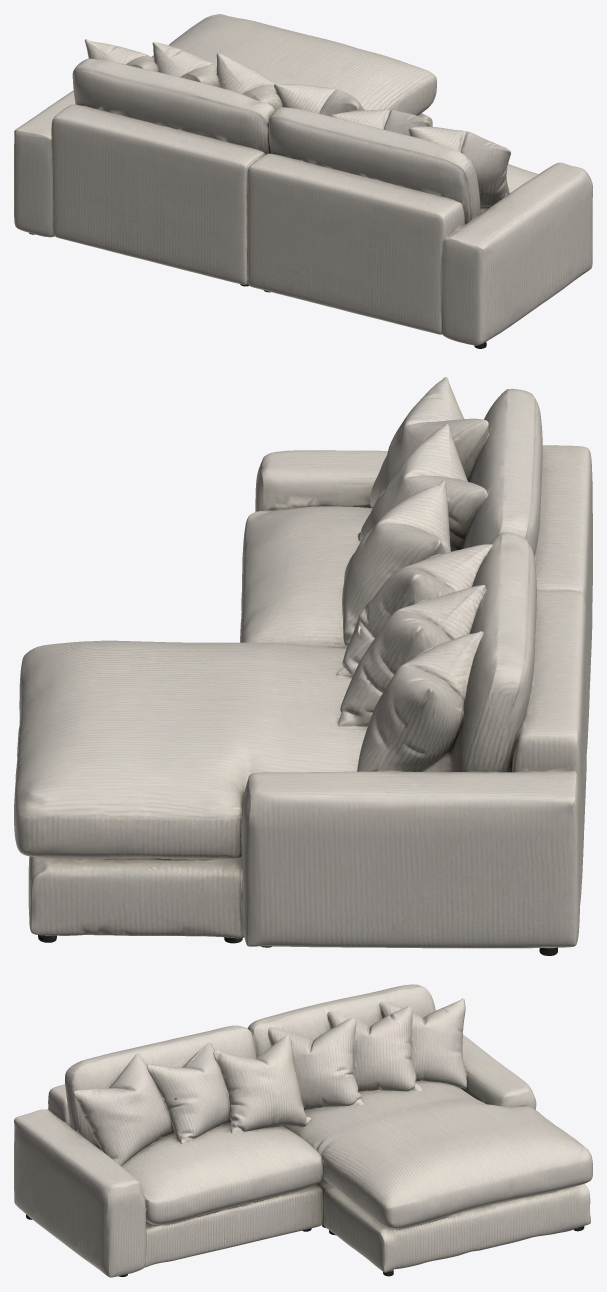
Rendered from caravanafurniture-com-products-oversized-reversible-chaise-c-73e6e3.glb.
The picture shows the model from 3 angles, top to bottom: view 1: azimuth 30°, elevation 25°; view 2: azimuth 150°, elevation 25°; view 3: azimuth 270°, elevation 25°; orthographic projection. The views are drawn at different scales.
Parts seen in each view (by area): view 1: tripo_node_d9a1429e-a7a6-4881-83e9-f51710a28ea3; view 2: tripo_node_d9a1429e-a7a6-4881-83e9-f51710a28ea3; view 3: tripo_node_d9a1429e-a7a6-4881-83e9-f51710a28ea3.
Boxes of the visible parts, x1,y1,x2,y2 form: tripo_node_d9a1429e-a7a6-4881-83e9-f51710a28ea3: (14, 14, 592, 348); tripo_node_d9a1429e-a7a6-4881-83e9-f51710a28ea3: (14, 377, 592, 955); tripo_node_d9a1429e-a7a6-4881-83e9-f51710a28ea3: (14, 984, 592, 1277).
Bounding box in the file's own units: 0.8214 × 0.3639 × 1.17.
Materials: 1 (1 with a texture image).
